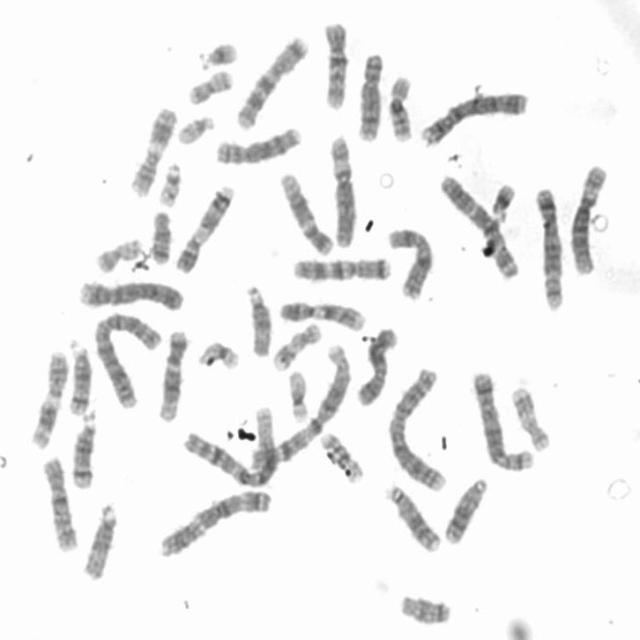A1: (246, 337, 353, 471), (181, 402, 282, 488)
A2: (384, 361, 450, 492), (91, 306, 165, 410)
A3: (436, 168, 522, 280), (154, 483, 274, 560)
B4: (416, 86, 531, 148), (75, 273, 186, 312)
B5: (470, 365, 537, 473), (530, 180, 568, 312)
C10: (38, 451, 81, 554), (318, 14, 351, 113)
C11: (125, 100, 179, 199), (24, 344, 70, 449)
C12: (275, 166, 337, 257), (153, 324, 190, 423)
C6: (565, 158, 612, 277), (325, 130, 360, 249)
C7: (231, 30, 310, 131), (287, 251, 394, 283)
C8: (211, 120, 305, 167), (352, 45, 386, 144)
C9: (172, 180, 237, 275), (275, 294, 369, 333)
D13: (381, 480, 443, 554), (439, 472, 490, 546)
D14: (67, 406, 100, 492), (64, 335, 94, 418)
D15: (77, 498, 120, 582), (241, 279, 274, 358)
E16: (316, 428, 366, 484), (383, 69, 417, 144)
E17: (507, 379, 553, 453), (268, 318, 324, 372)
E18: (396, 588, 453, 626), (146, 204, 174, 266)
F19: (194, 336, 241, 372), (284, 363, 311, 425)
F20: (91, 232, 145, 274), (184, 64, 236, 106)
G21: (194, 35, 241, 70), (487, 177, 518, 222)
G22: (174, 109, 217, 146), (154, 158, 184, 208)
X: (382, 221, 437, 301), (353, 322, 400, 408)
